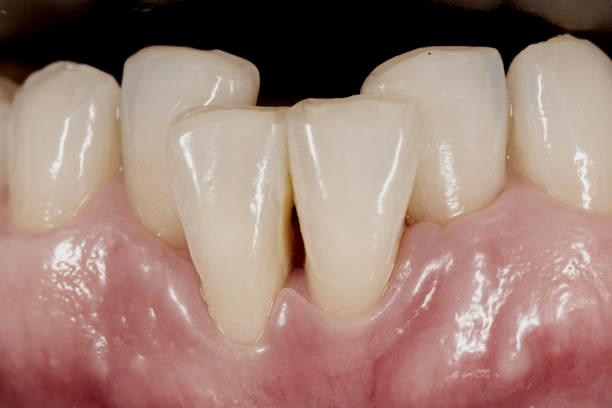Gingivitis: (403, 194, 612, 330), (34, 219, 220, 358)
